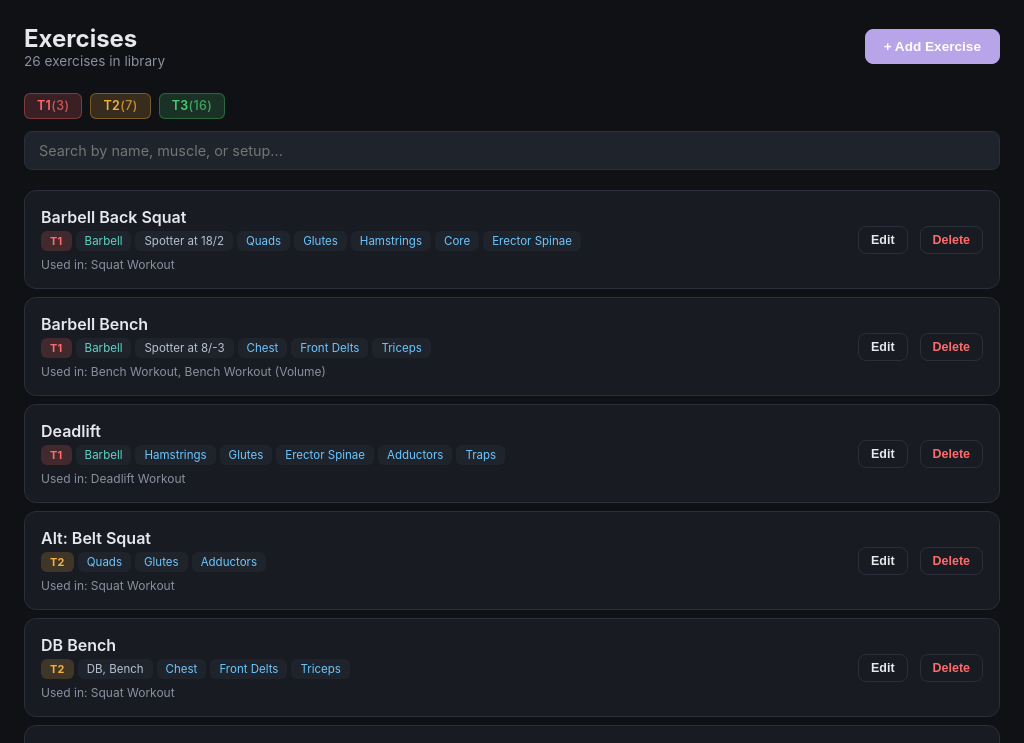
Test case: ExercisesPage — equipment dropdown › offers exactly None and Barbell in the edit form, pre-selected from the definition
Expected: the link "Barbell Back Squat" is shown, [41,208,186,228]
Click the button "Edit" in the row of "Spotter at 18/2" at coordinates (883, 240), box [858,226,908,254]
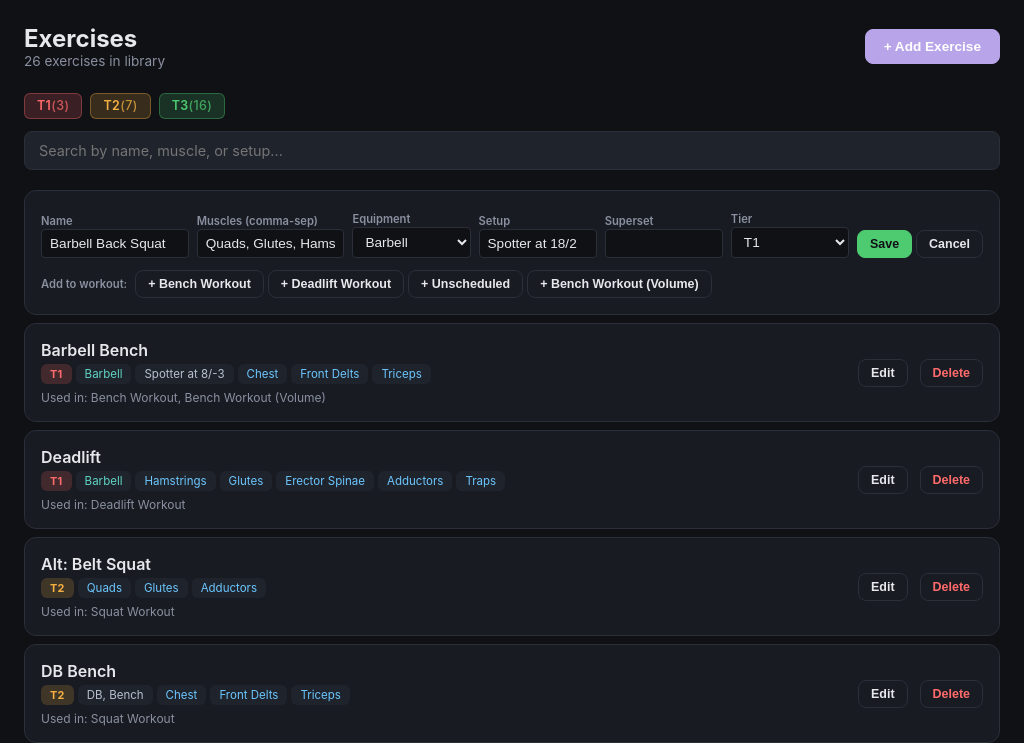
Expected: the dropdown named "Equipment" shows "Barbell", [352,228,470,258]
